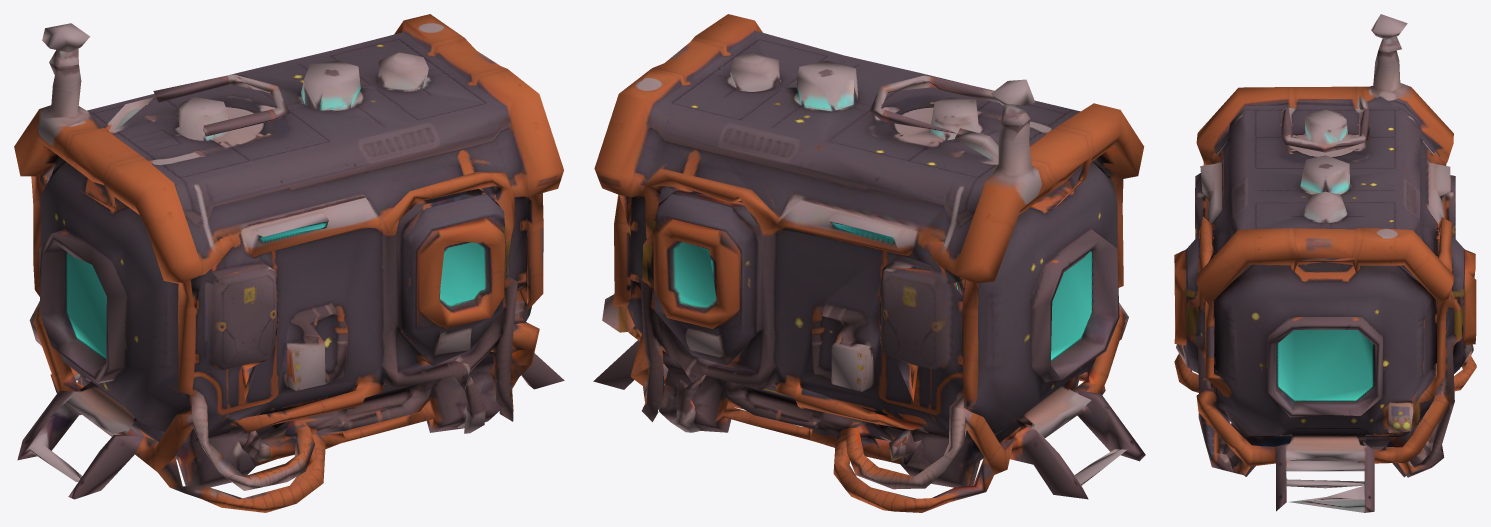
Rendered from room-double.fbx.
3 views of the same model, side by side, from view 1: azimuth 30°, elevation 25°; view 2: azimuth 150°, elevation 25°; view 3: azimuth 270°, elevation 25° (orthographic). The views are drawn at different scales.
Visible parts, largest first — view 1: tripo_node_cf6d22c6; view 2: tripo_node_cf6d22c6; view 3: tripo_node_cf6d22c6.
Boxes of the visible parts, x1,y1,x2,y2 form: tripo_node_cf6d22c6: (14,14,564,512); tripo_node_cf6d22c6: (593,14,1145,512); tripo_node_cf6d22c6: (1174,14,1476,512).
Bounding box in the file's own units: 100 × 80.81 × 66.91.
1 material, 1 textured.
